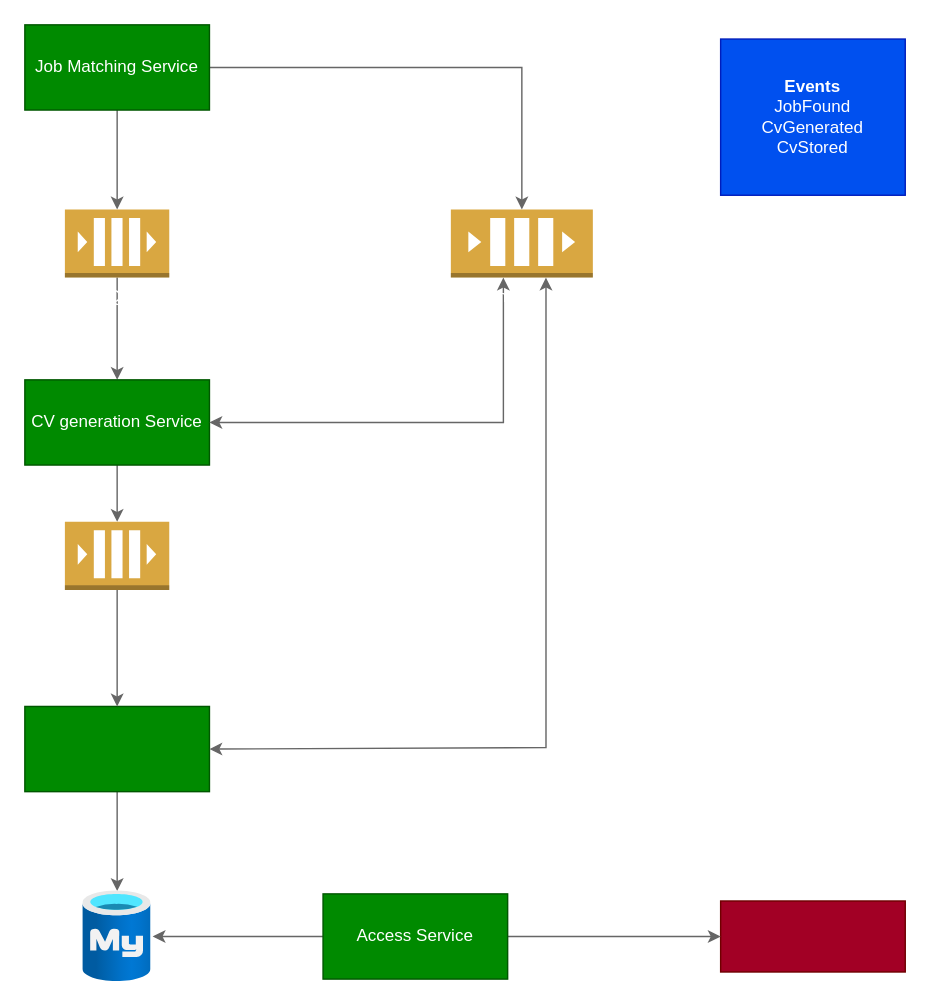
This 930x1007 diagram has some shape labels left out. Each missing label, with the centre of its shape:
"CV Queue" belongs at (116,555).
"Frontend" belongs at (812,936).
"Storage Service" belongs at (116,748).
